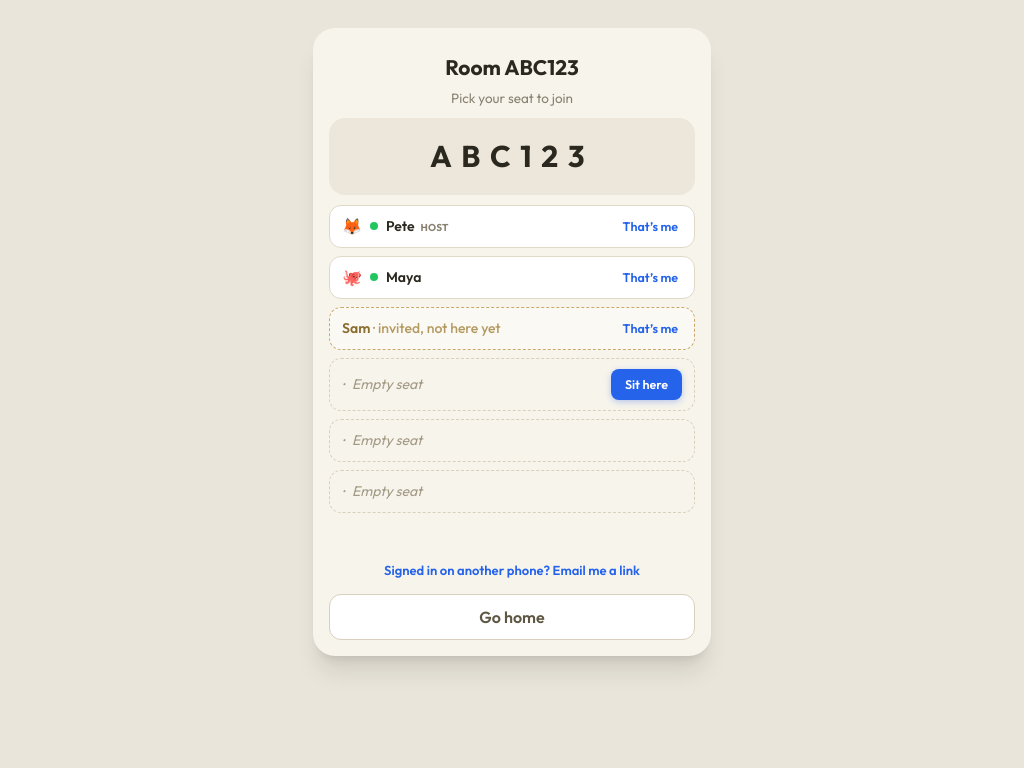
landing on a link › the chooser claims a seat by email — occupied and reserved rows alike
expect the text "Pick your seat to join" is shown: met, box [451,88,573,106]
Step 1. Click the button "That’s me" in the row of "Sam" → (650, 328), box [619,319,682,338]
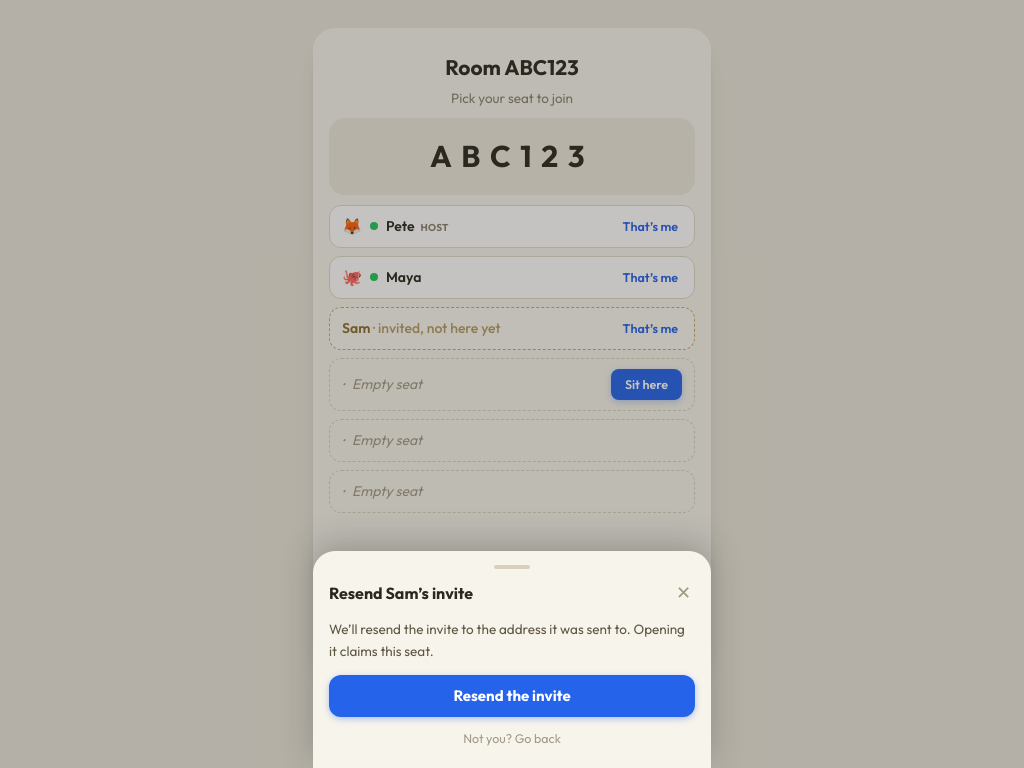
expect the dialog "Resend Sam’s invite" is shown: met, box [313,551,711,767]
Step 2. Click the button "Resend the invite" → (512, 696), box [329,675,695,717]
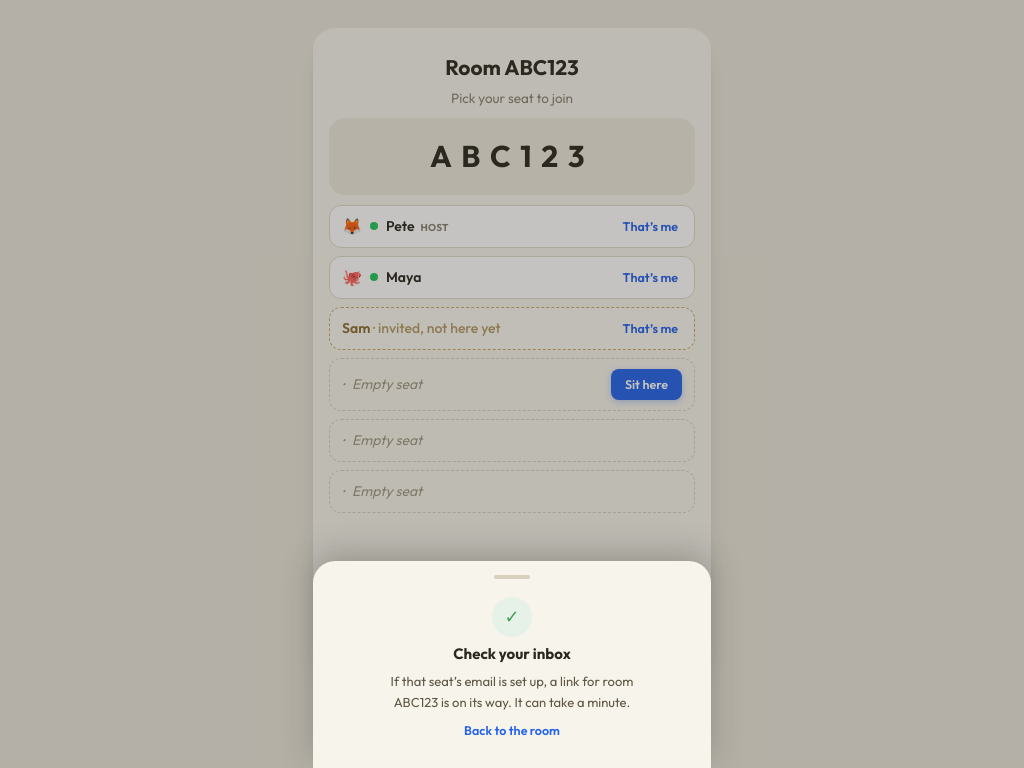
expect the text "Check your inbox" is shown: met, box [453,642,571,665]
